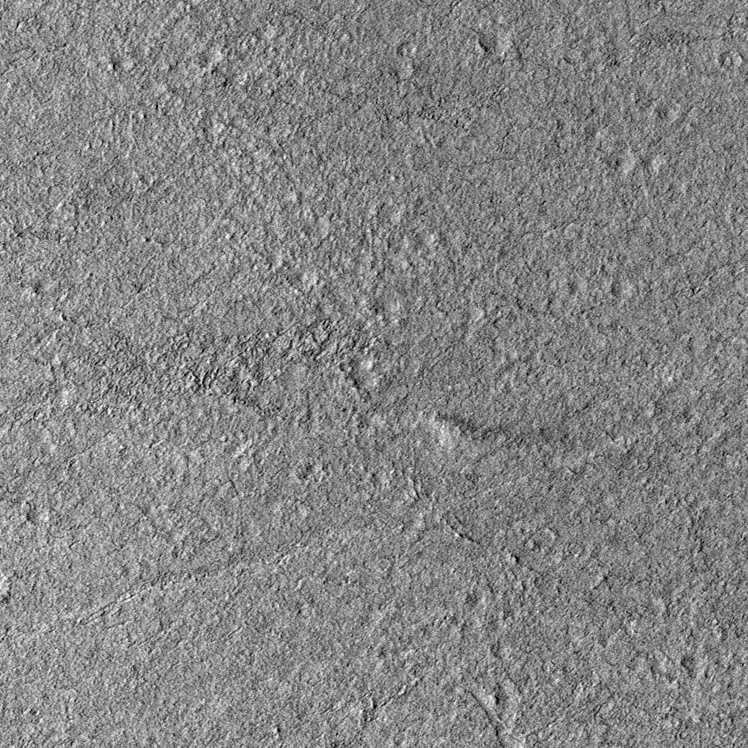dust_devil: (421, 409, 516, 448)
